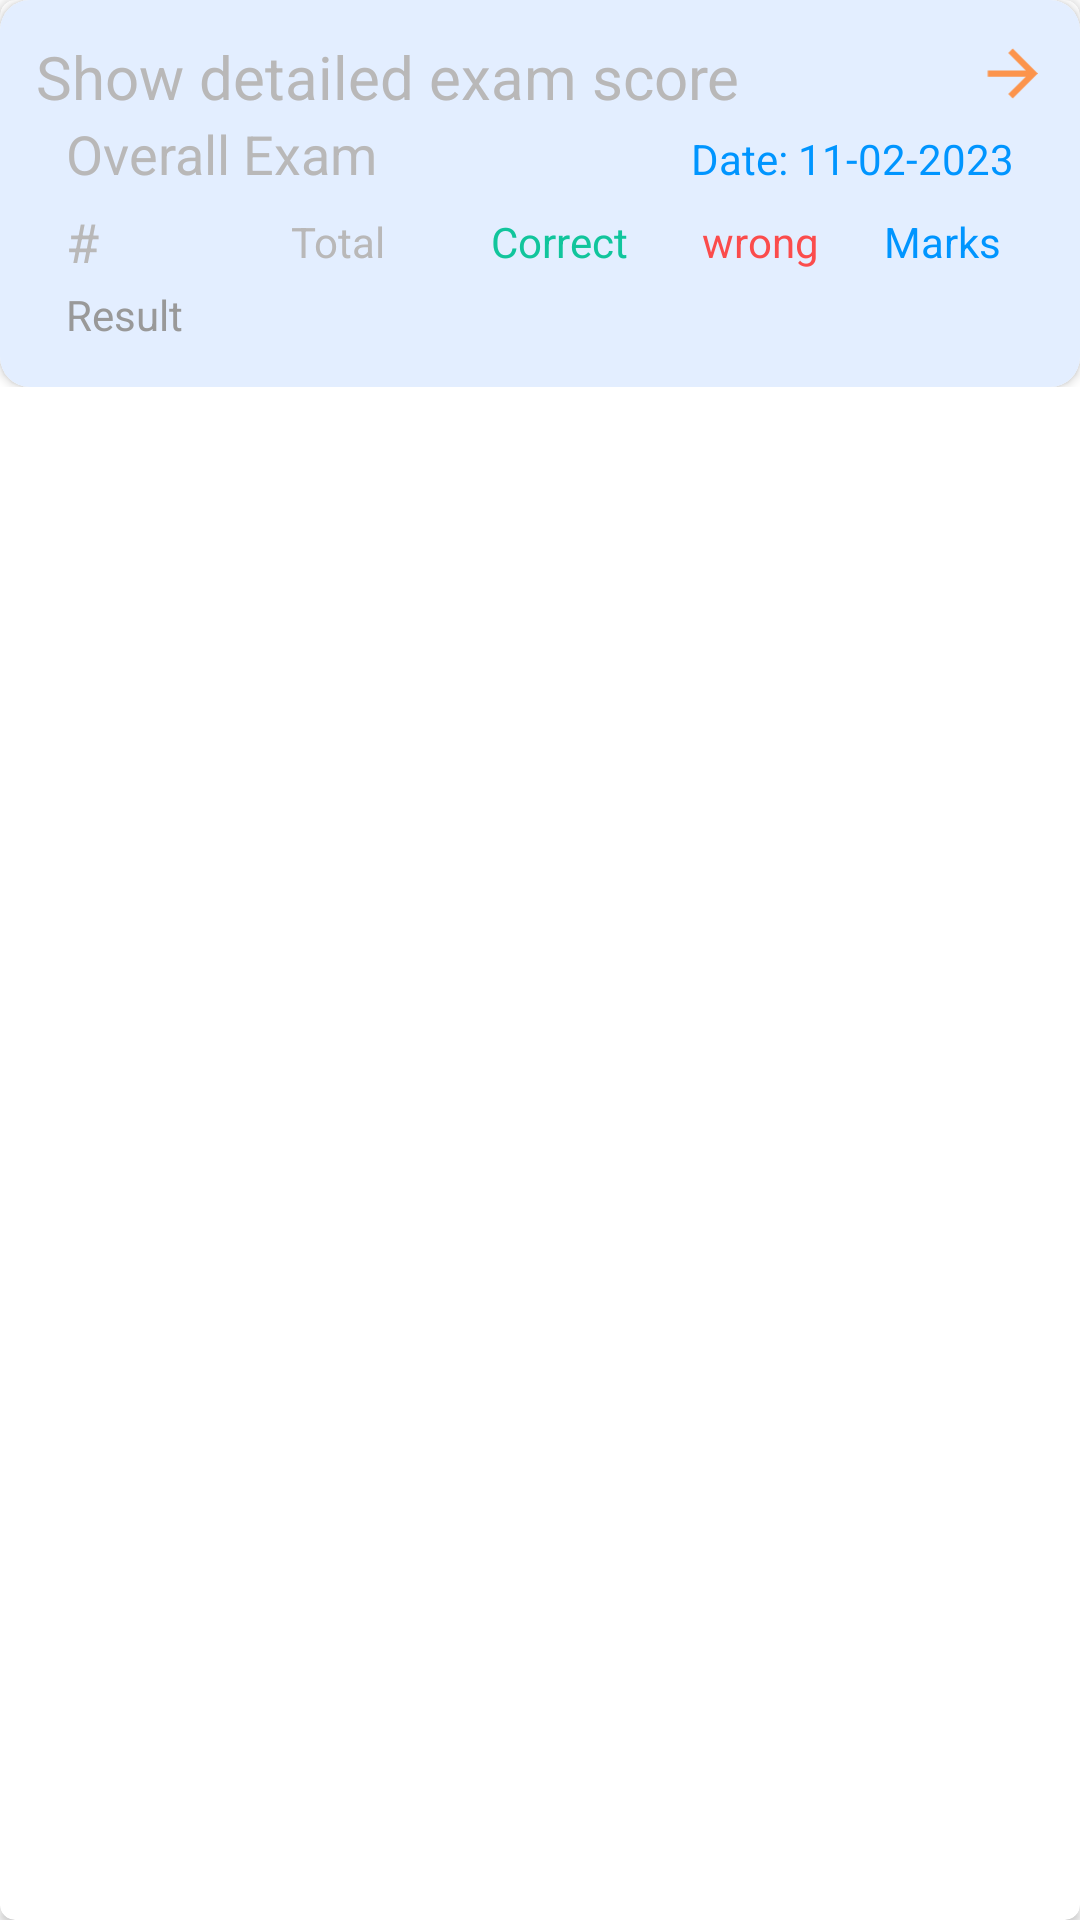

Where to tap for icons on this 1080 × 1920 app screen, as point (x, y):
arrow forward: point (1012, 73)
